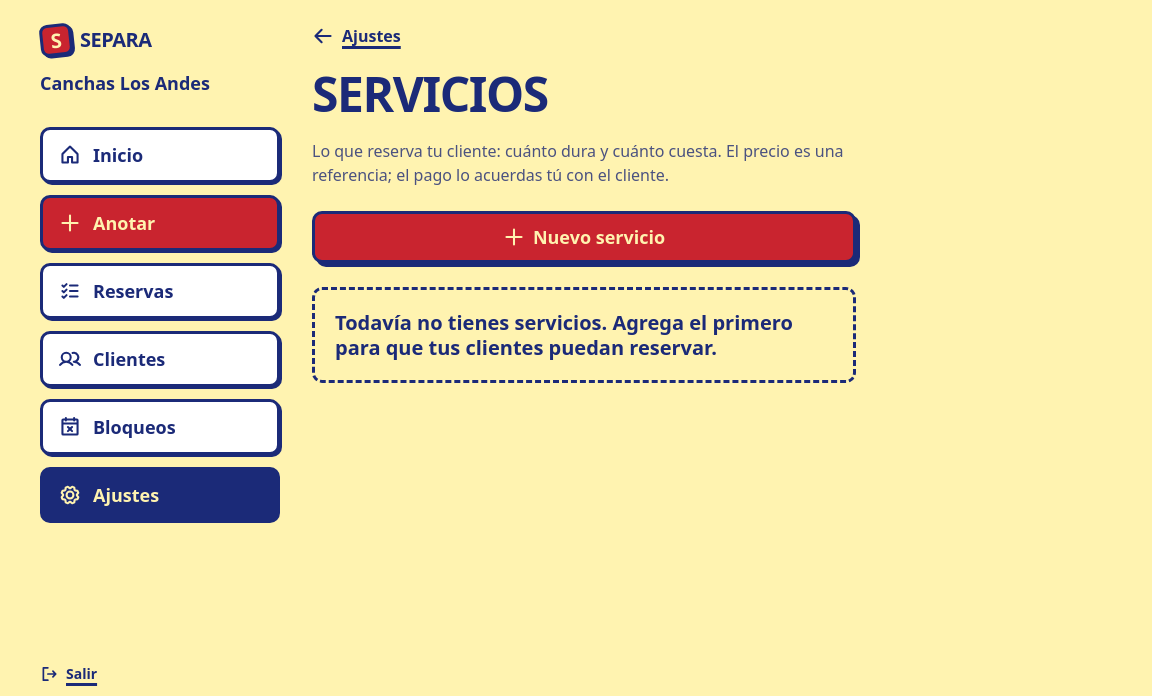
adding a service › starts from the duration the business type suggests
Click the button "Nuevo servicio": (584, 237) [312, 211, 856, 263]
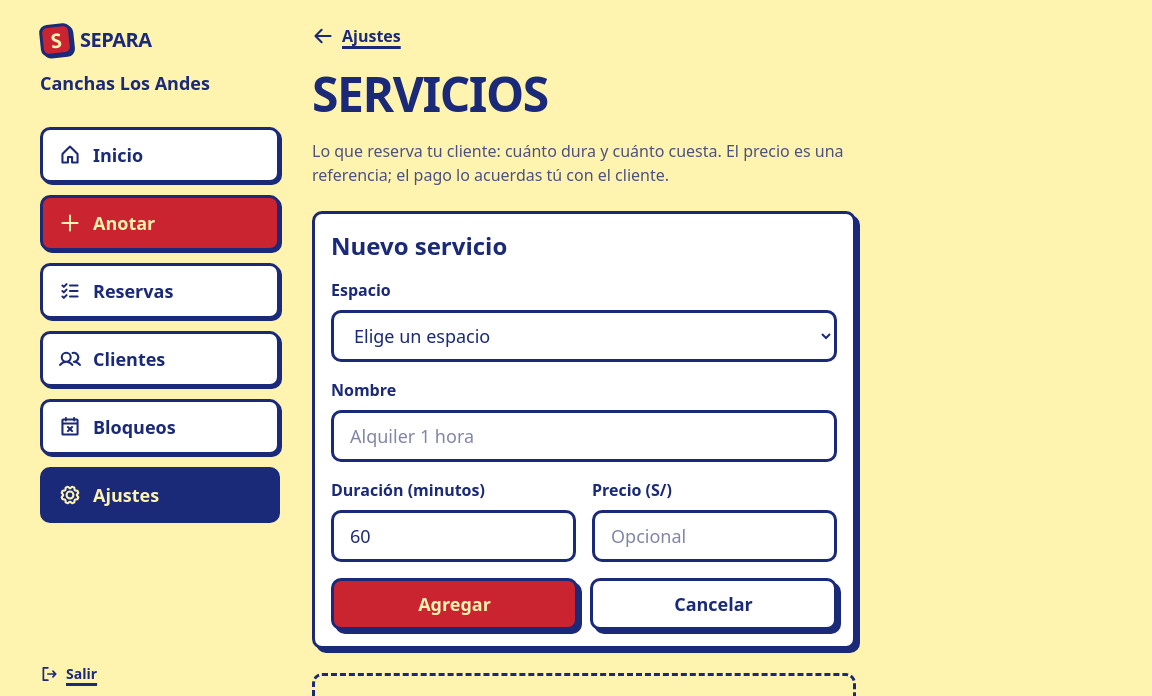
Expected: the field labelled "Duración (minutos)" holds "60", [331, 510, 576, 562]
